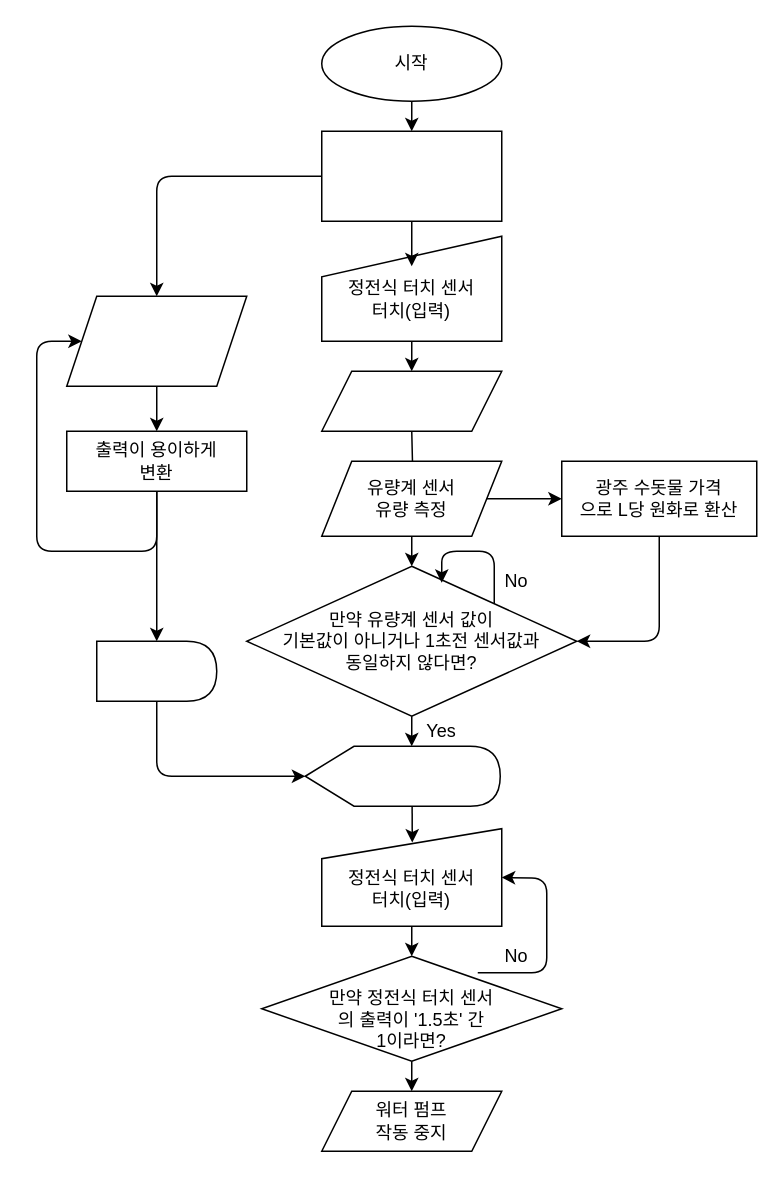
This 783x1178 diagram has some shape labels left out. Each missing label, with the centre of its shape:
1초 기다리기: the point at 156,670
OLED 패널에 출력: the point at 402,775
RTC를 이용해 시간 출력: the point at 156,340
워터 펌프 작동: the point at 411,400
초기화 및 설치: the point at 411,175
